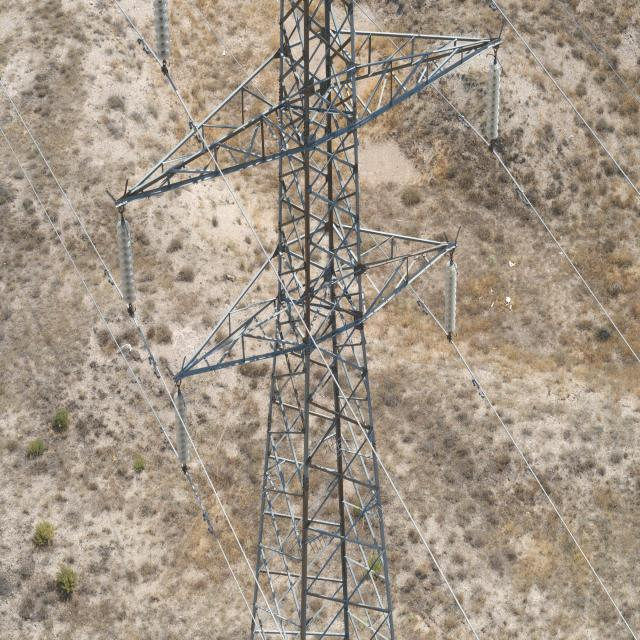voltage_line: (176, 8, 484, 640)
